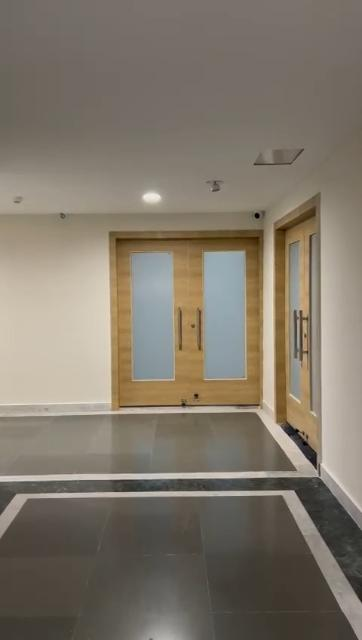door: (114, 233, 270, 409), (277, 220, 321, 432)
floor: (0, 414, 359, 640)
wall: (0, 222, 114, 400), (322, 177, 362, 483)
